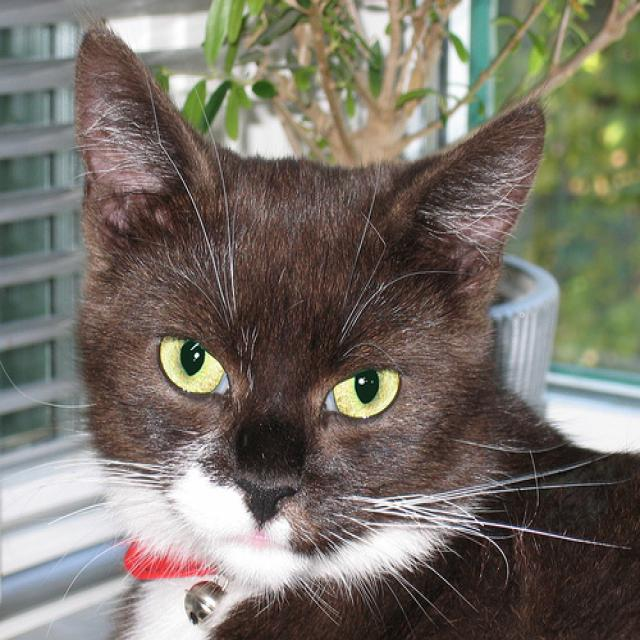left eye: (320, 363, 403, 421)
